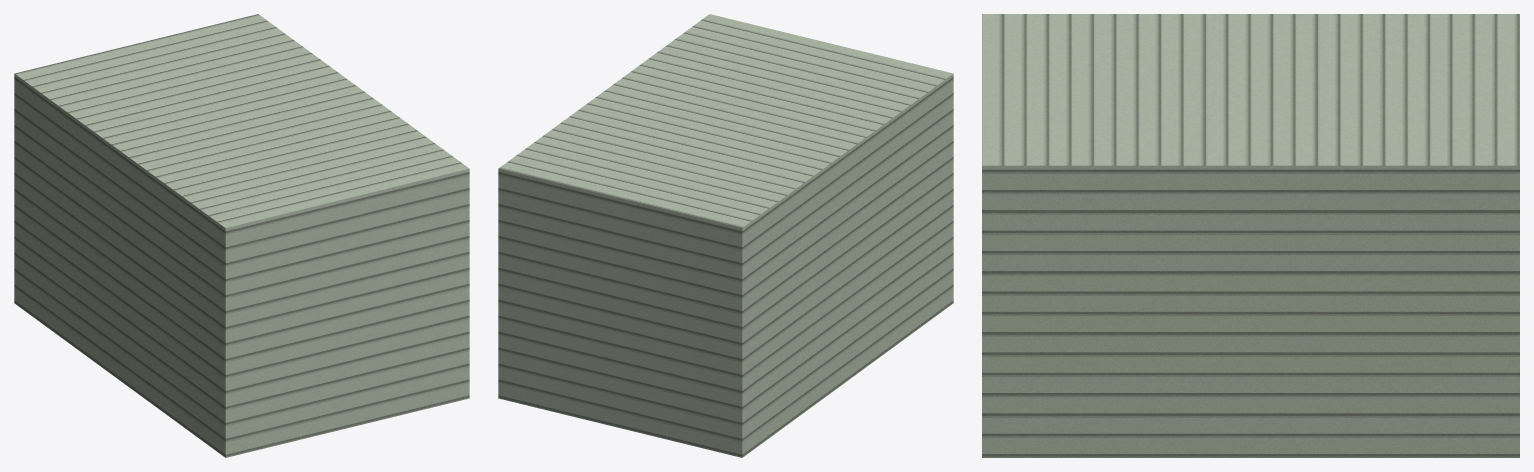
Rendered from production_floor_machinery.glb.
3 views of the same model, side by side, from view 1: azimuth 30°, elevation 25°; view 2: azimuth 150°, elevation 25°; view 3: azimuth 270°, elevation 25° (orthographic). The views are drawn at different scales.
Parts seen in each view (by area): view 1: production_floor_machinery-col; view 2: production_floor_machinery-col; view 3: production_floor_machinery-col.
Boxes of the visible parts, box(x1,y1,x2,y2) form: production_floor_machinery-col: box(14, 14, 469, 457); production_floor_machinery-col: box(498, 14, 953, 457); production_floor_machinery-col: box(982, 14, 1519, 457).
Size of the model in its own units: 2 by 1.8 by 3.
Materials: 1 (1 with a texture image).
